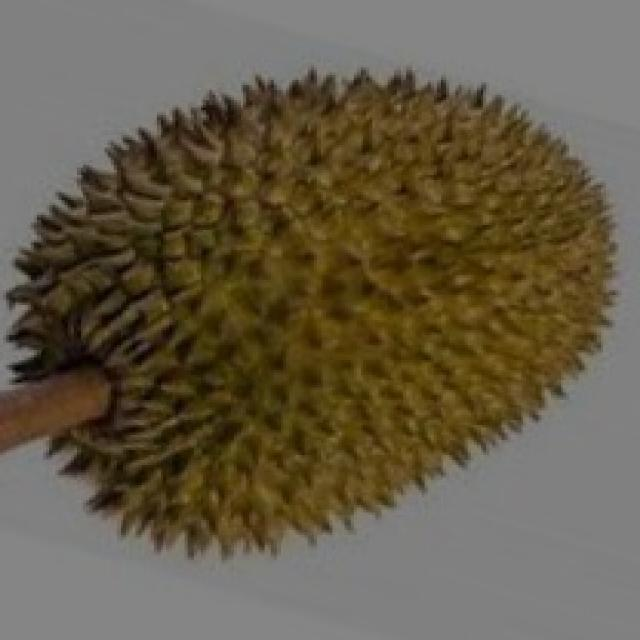fruit: (3, 250, 372, 625)
